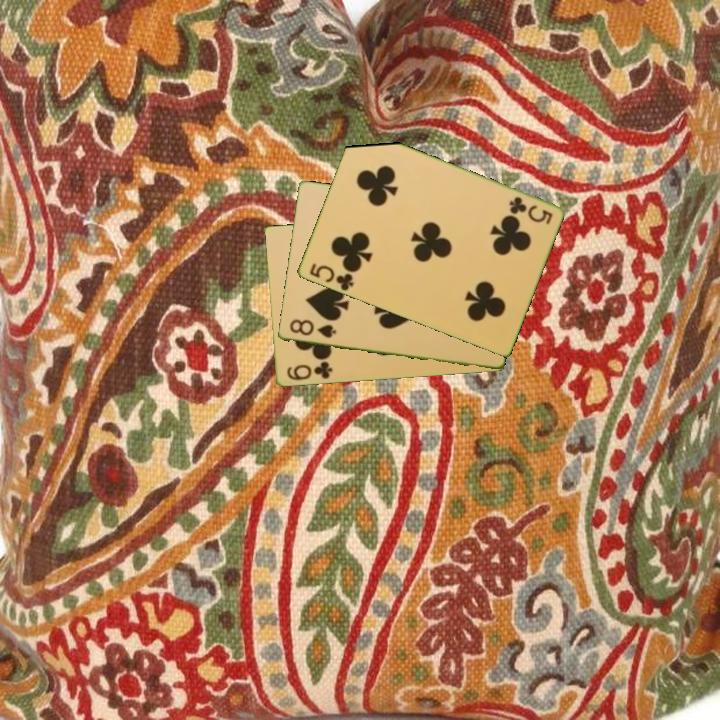5c: (305, 259, 356, 294), (505, 193, 555, 228)
6c: (283, 358, 335, 384)
8s: (286, 316, 339, 341)
